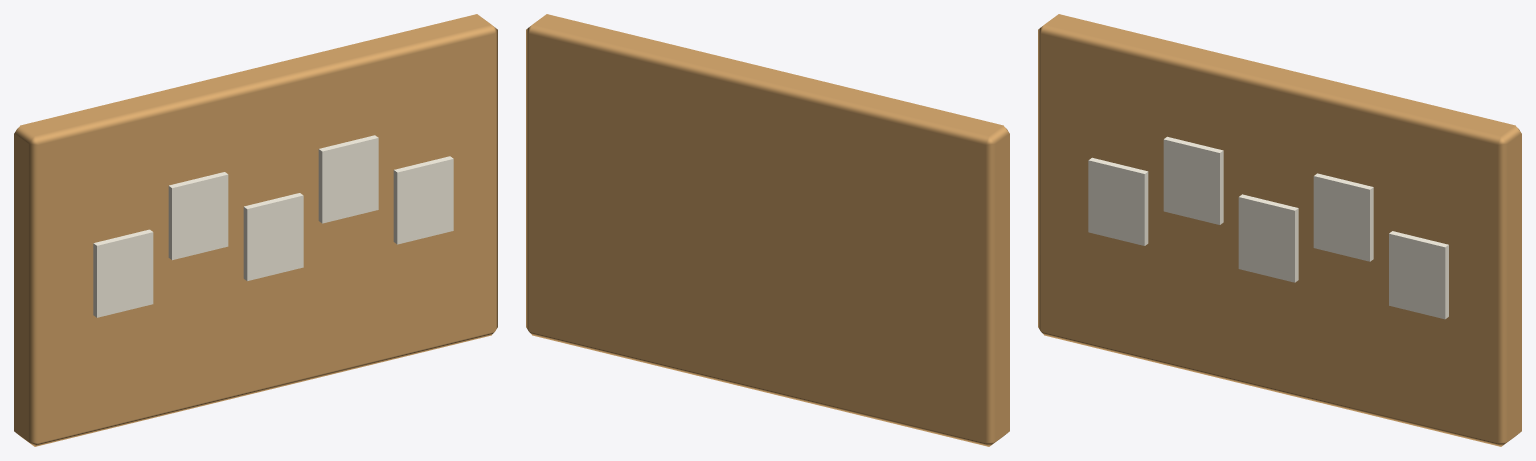
Rendered from bulletin_board.glb.
3 renders of one model, left to right at view 1: azimuth 30°, elevation 25°; view 2: azimuth 150°, elevation 25°; view 3: azimuth 330°, elevation 25°, orthographic.
Parts seen in each view (by area): view 1: bulletin_board; view 2: bulletin_board; view 3: bulletin_board.
Boxes of the visible parts, x1,y1,x2,y2 form: bulletin_board: (14,14,497,446); bulletin_board: (526,14,1009,446); bulletin_board: (1038,14,1521,446).
Bounding box in the file's own units: 1.5 × 0.95 × 0.15.
